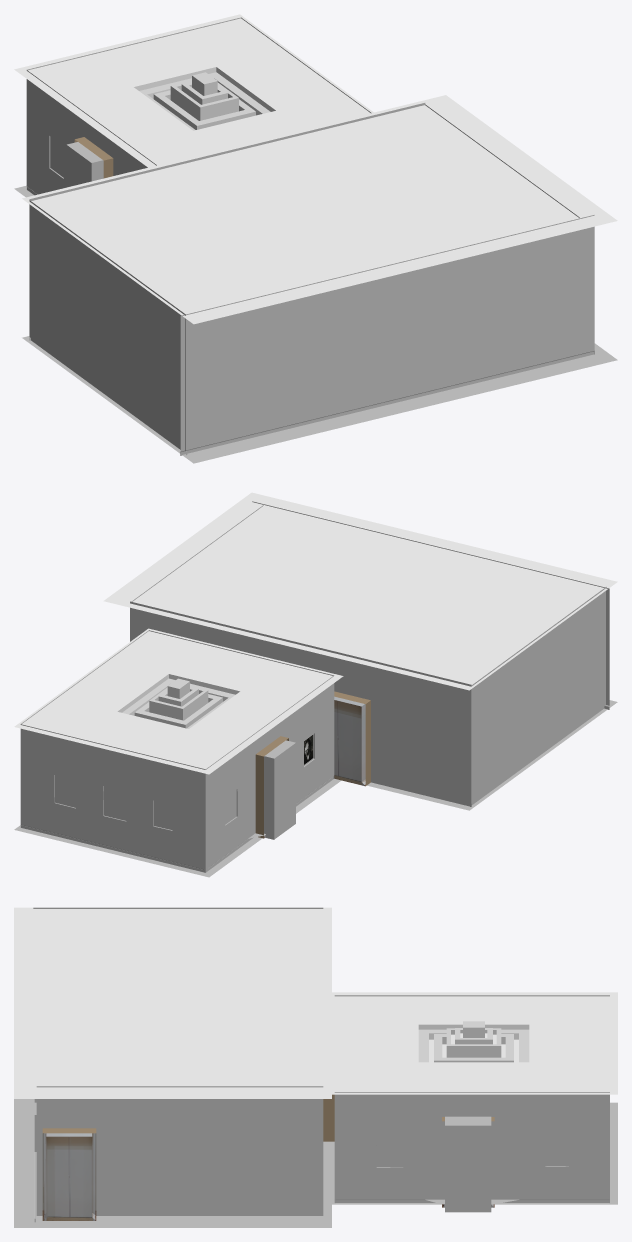
Rendered from ver1grank.fbx.
The picture shows the model from 3 angles, top to bottom: view 1: azimuth 30°, elevation 25°; view 2: azimuth 150°, elevation 25°; view 3: azimuth 270°, elevation 25°; orthographic projection. The views are drawn at different scales.
Parts seen in each view (by area): view 1: Plane.003, LONGWALLDEF.002, Plane.001, smallside.001, sidewall.001, Plane.002, wall5final; view 2: Plane.003, Plane.001, mainwall, wall5final, smallside.001, sidewall.001, gate1.003, Plane, LONGWALLDEF.002, gate1.001, Plane.002; view 3: Plane.003, gate1.004, sidewall, Plane.001, Plane.002, Plane, smallside.001, sidewall.001, gate1.002.
Part boxes in pixels (x1,y1,x2,y2): Plane.003: (22,95,617,324); LONGWALLDEF.002: (180,215,594,455); Plane.001: (14,14,373,167); smallside.001: (29,200,187,455); sidewall.001: (26,70,156,195); Plane.002: (22,336,617,463); wall5final: (29,103,425,340); Plane.003: (103,492,617,690); Plane.001: (14,628,343,774); mainwall: (20,724,205,872); wall5final: (130,601,471,806); smallside.001: (470,587,606,806); sidewall.001: (205,675,334,872); gate1.003: (334,691,370,786); Plane: (14,778,341,877); LONGWALLDEF.002: (252,501,609,709); gate1.001: (255,736,288,838); Plane.002: (367,700,617,810); Plane.003: (14,907,331,1098); gate1.004: (36,1086,323,1220); sidewall: (334,1092,609,1212); Plane.001: (332,992,617,1094); Plane.002: (14,1099,331,1227); Plane: (330,1102,617,1204); smallside.001: (33,907,323,908); sidewall.001: (334,995,609,996); gate1.002: (323,1094,334,1141).
Bounding box in the file's own units: 742 × 237 × 986.
